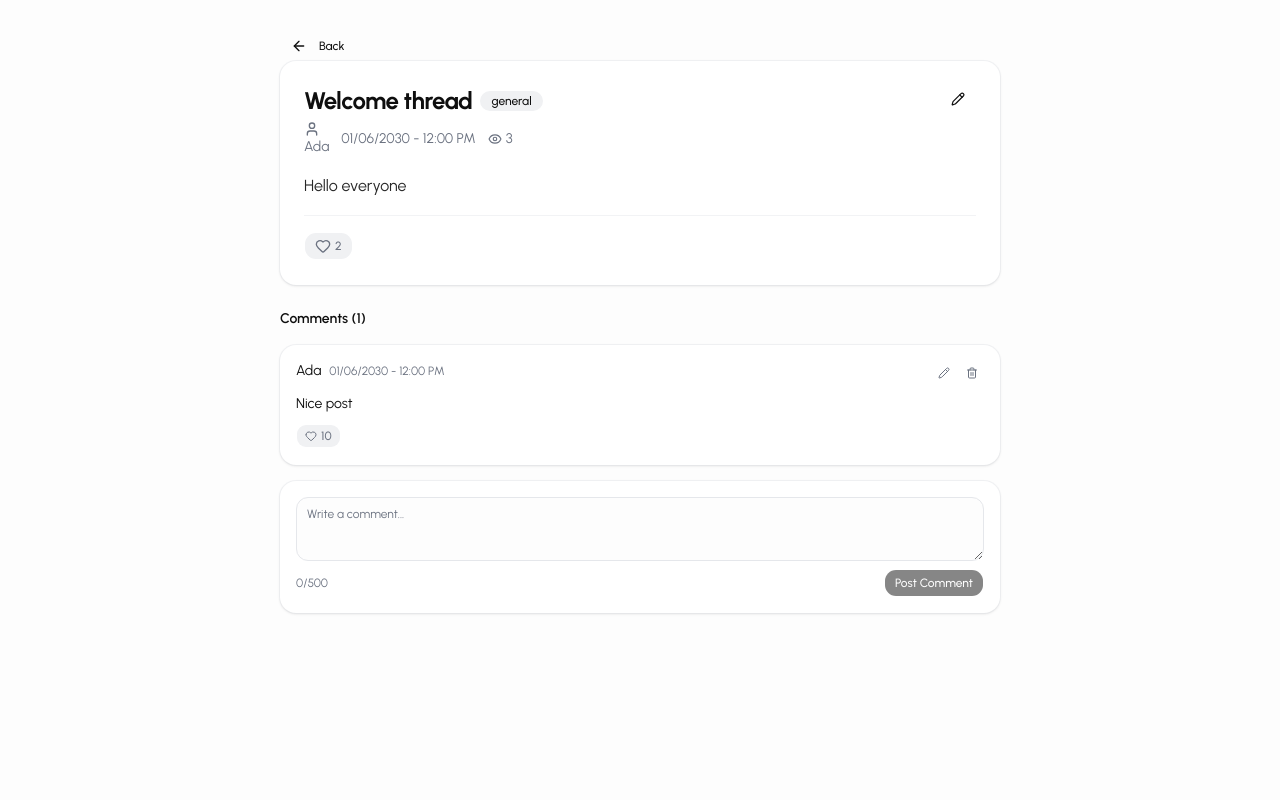
it: discussion detail route › edits the discussion from the owner controls
Expected: the heading "Welcome thread" is shown, [304, 85, 472, 117]
Click the button named "Edit discussion": x=958, y=99 [940, 85, 976, 113]
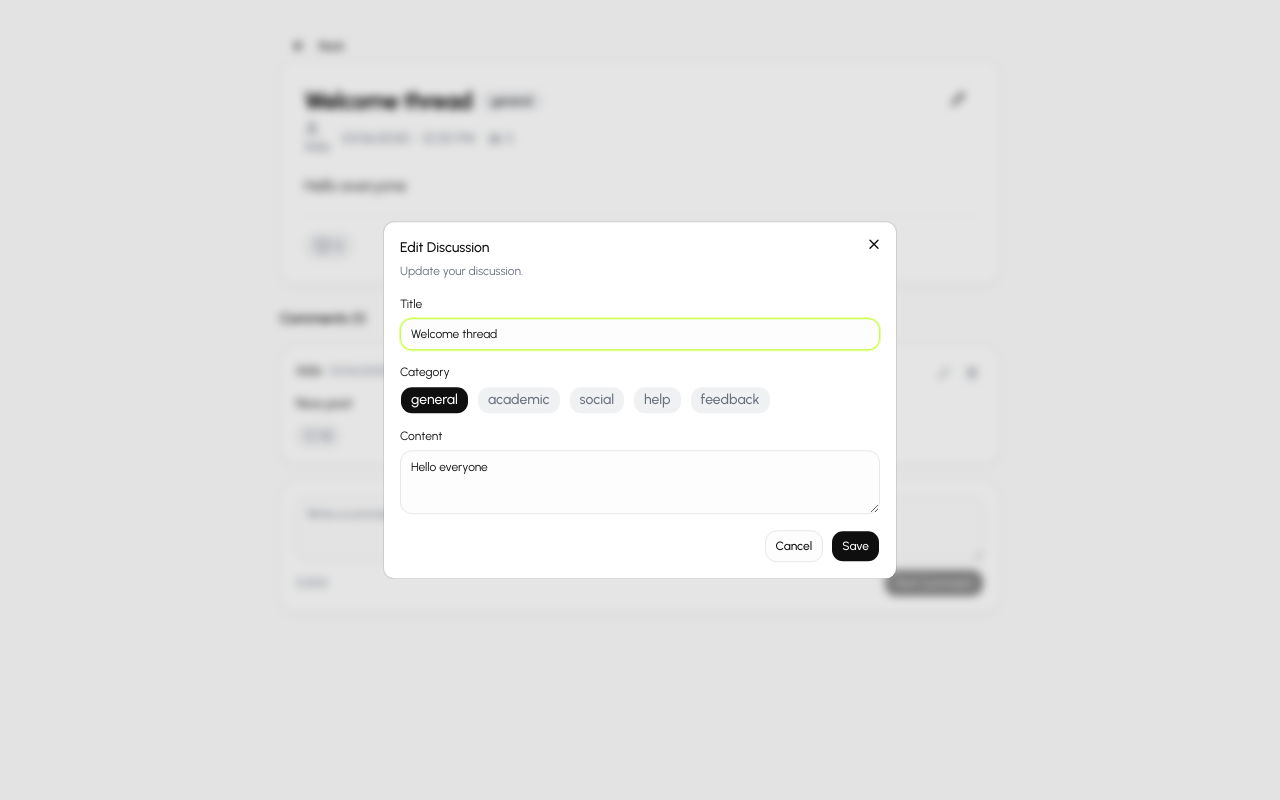
Replace the text in the field with "Updated thread": x=640, y=334 [400, 318, 880, 350]
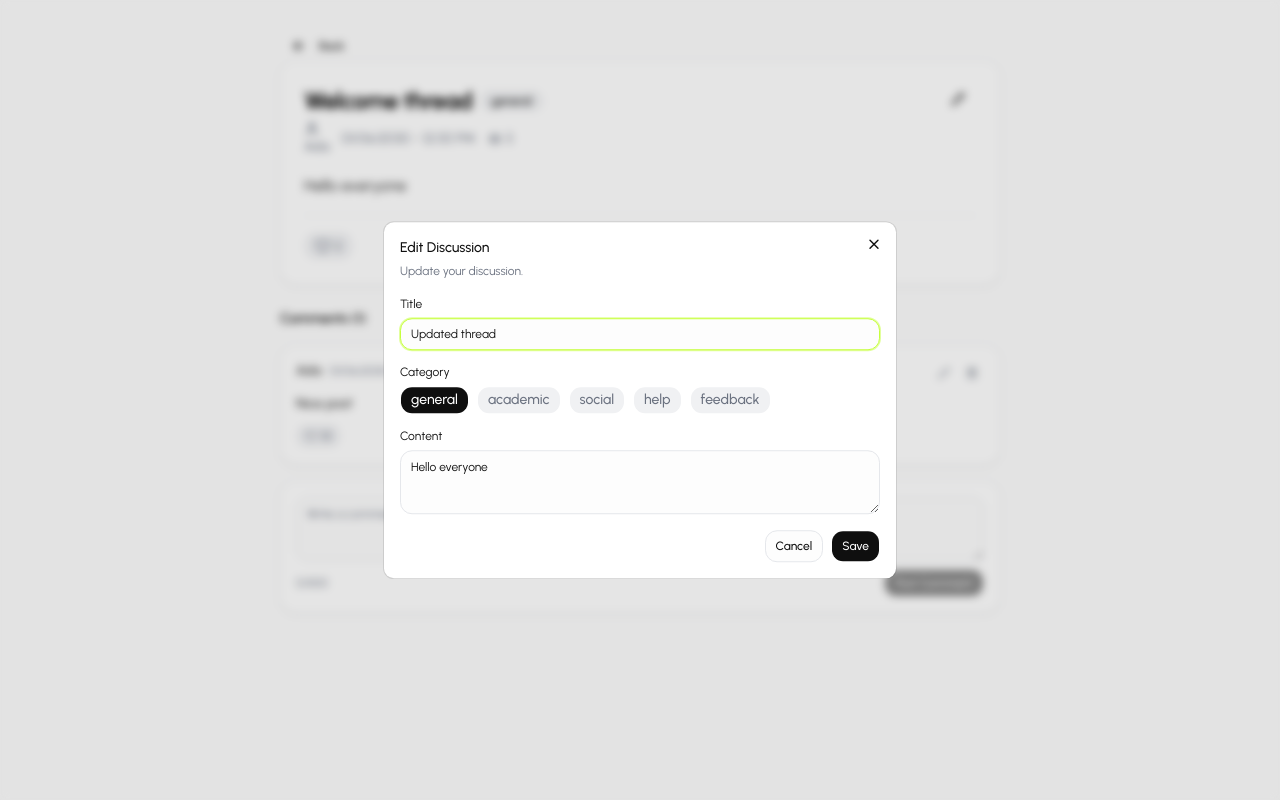
Click the button "academic": x=519, y=400 [477, 386, 560, 414]
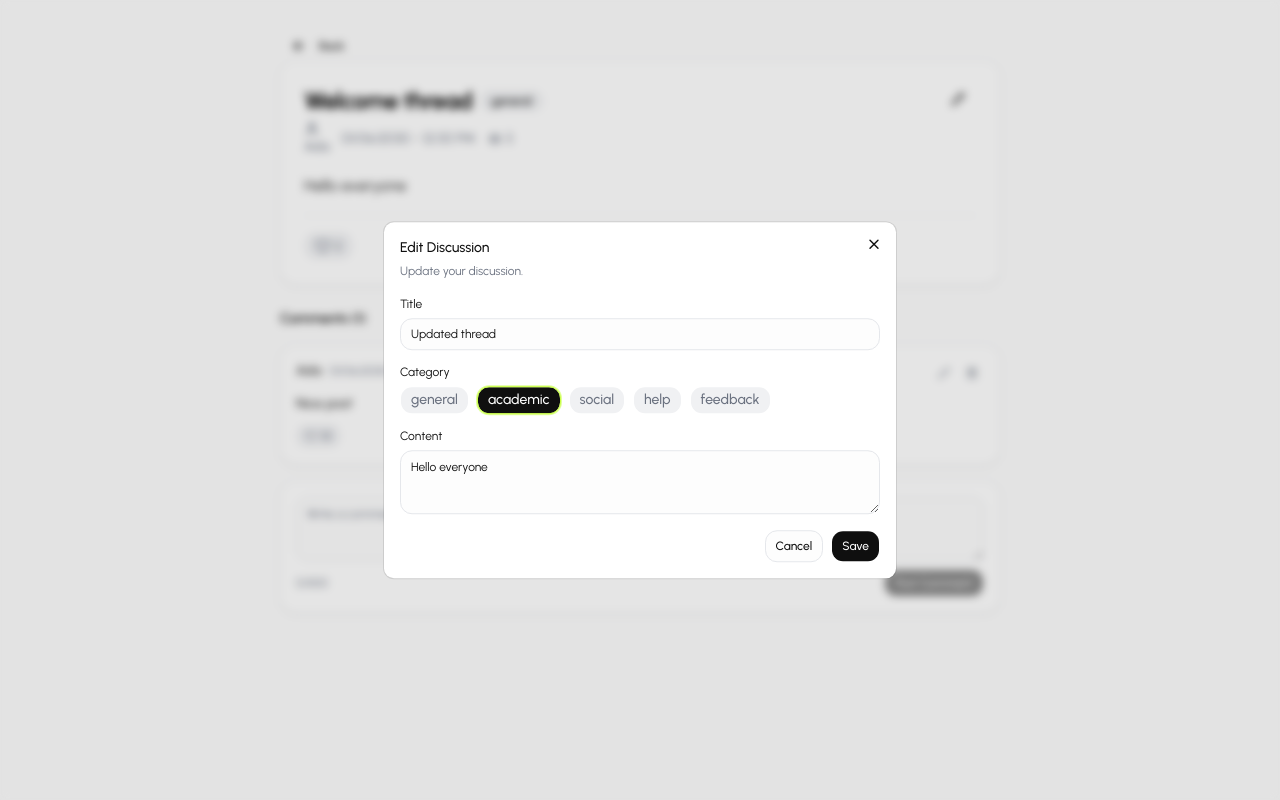
Replace the text in the text box with "Updated body": x=640, y=482 [400, 450, 880, 514]
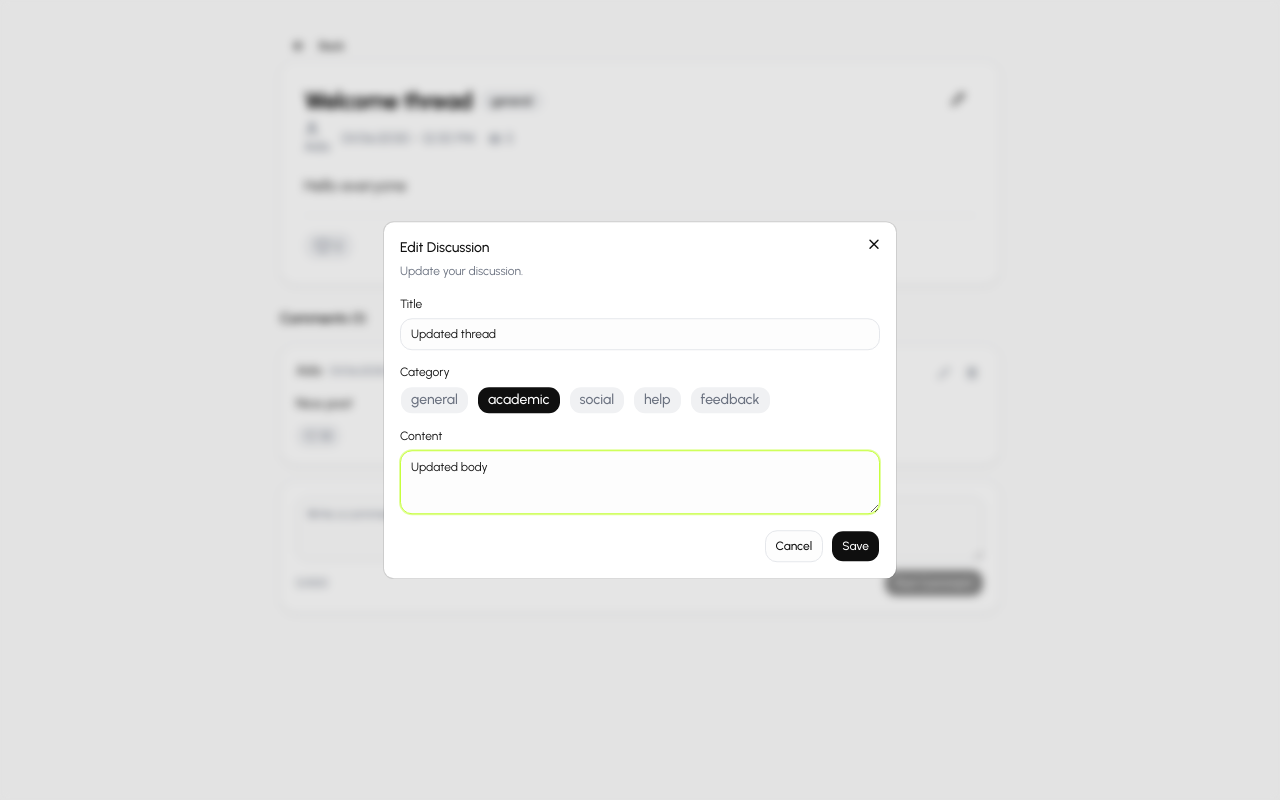
Click the button "Save": x=856, y=546 [831, 530, 880, 562]
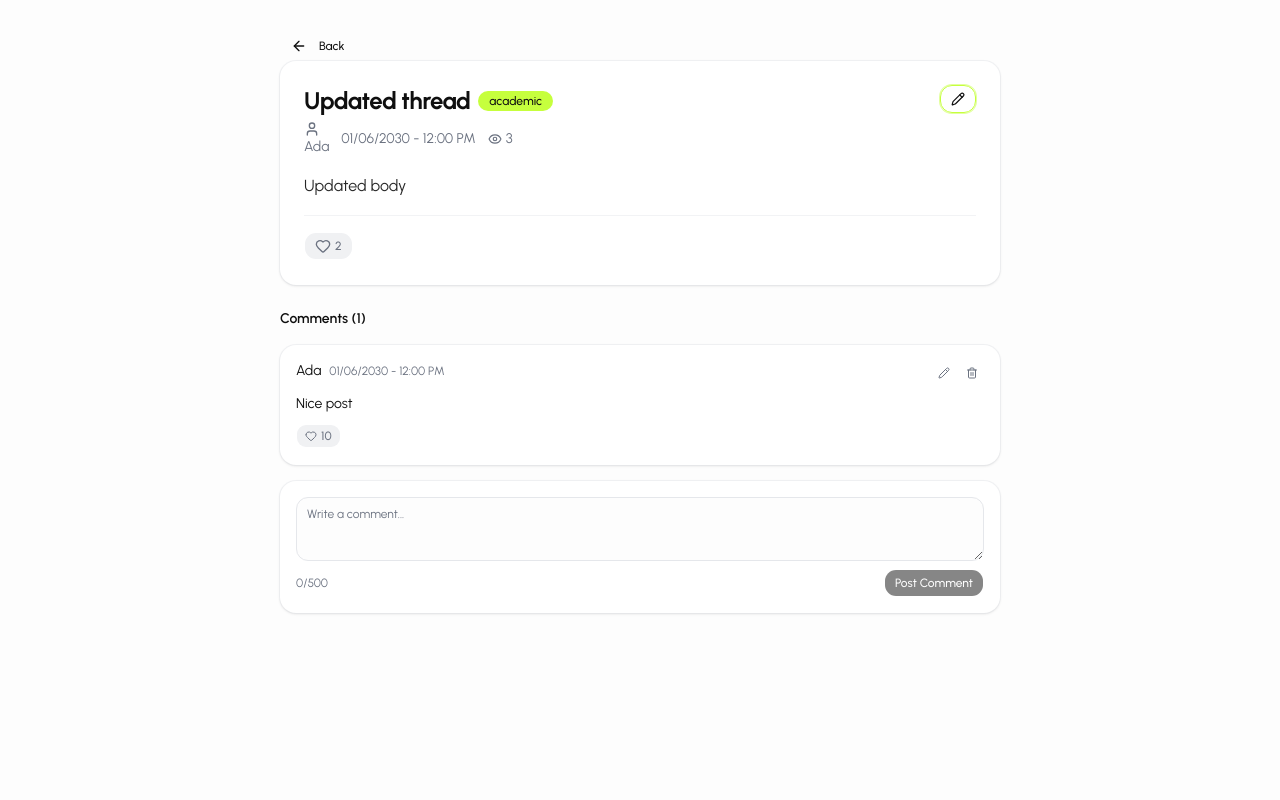
Expected: the heading "Updated thread" is shown, [304, 85, 470, 117]
